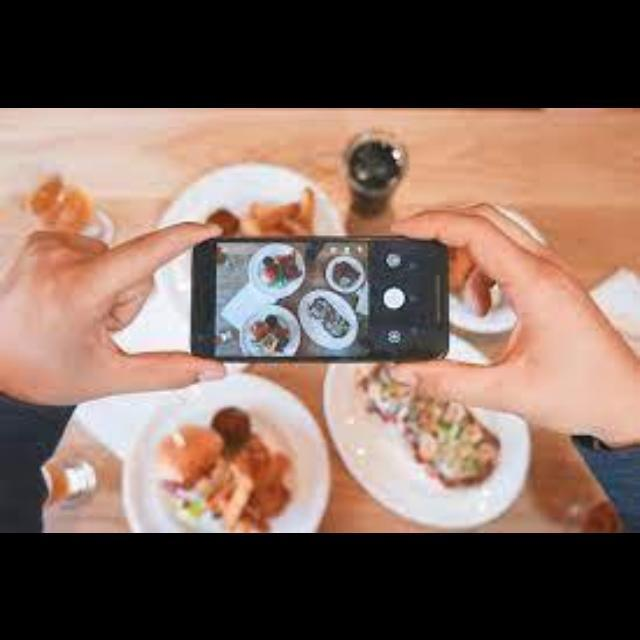PhoneUse: (185, 234, 471, 370)
